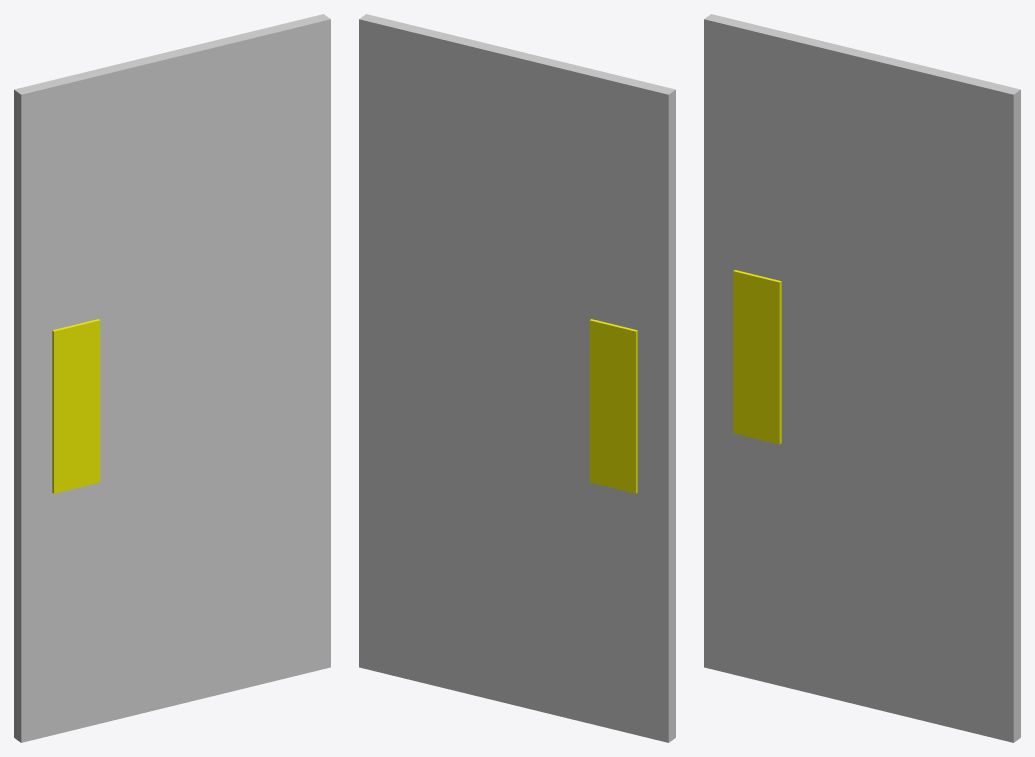
Rendered from sVR_Door.fbx.
The picture shows the model from 3 angles, left to right: view 1: azimuth 30°, elevation 25°; view 2: azimuth 150°, elevation 25°; view 3: azimuth 330°, elevation 25°; orthographic projection.
Parts seen in each view (by area): view 1: SketchUp, ID19; view 2: SketchUp, ID11; view 3: SketchUp, ID19.
Boxes of the visible parts, <box> form: SketchUp: <box>14,14,330,742</box>; ID19: <box>52,319,100,493</box>; SketchUp: <box>359,14,675,742</box>; ID11: <box>589,319,637,493</box>; SketchUp: <box>704,14,1020,742</box>; ID19: <box>733,270,781,444</box>.
Size of the model in its own units: 39.37 by 2.36 by 78.74.
